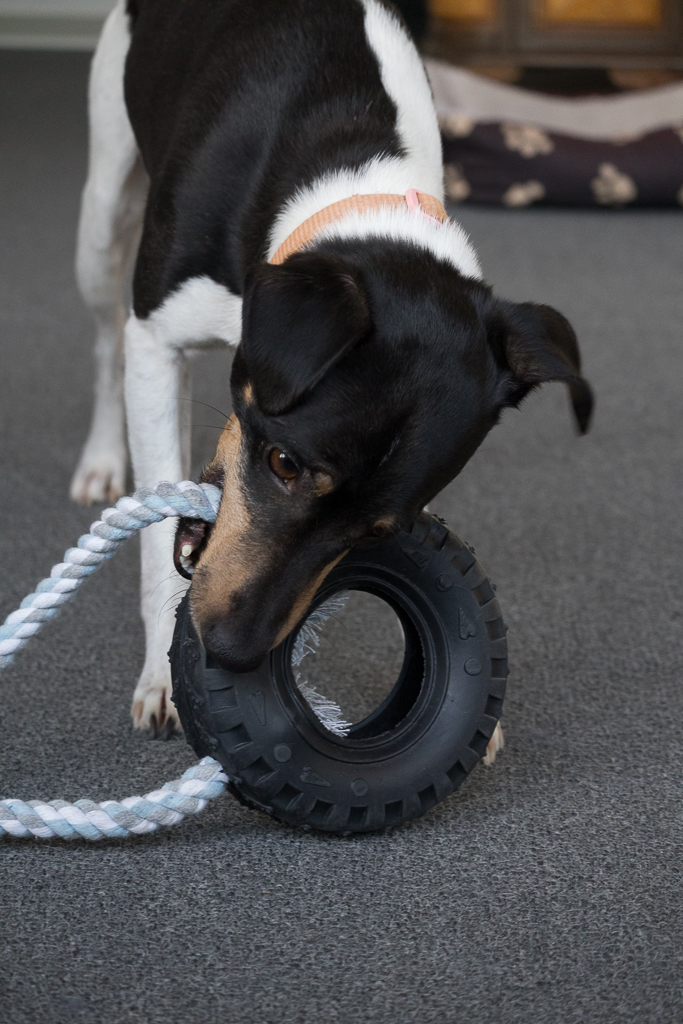Dog: (58, 0, 614, 782)
